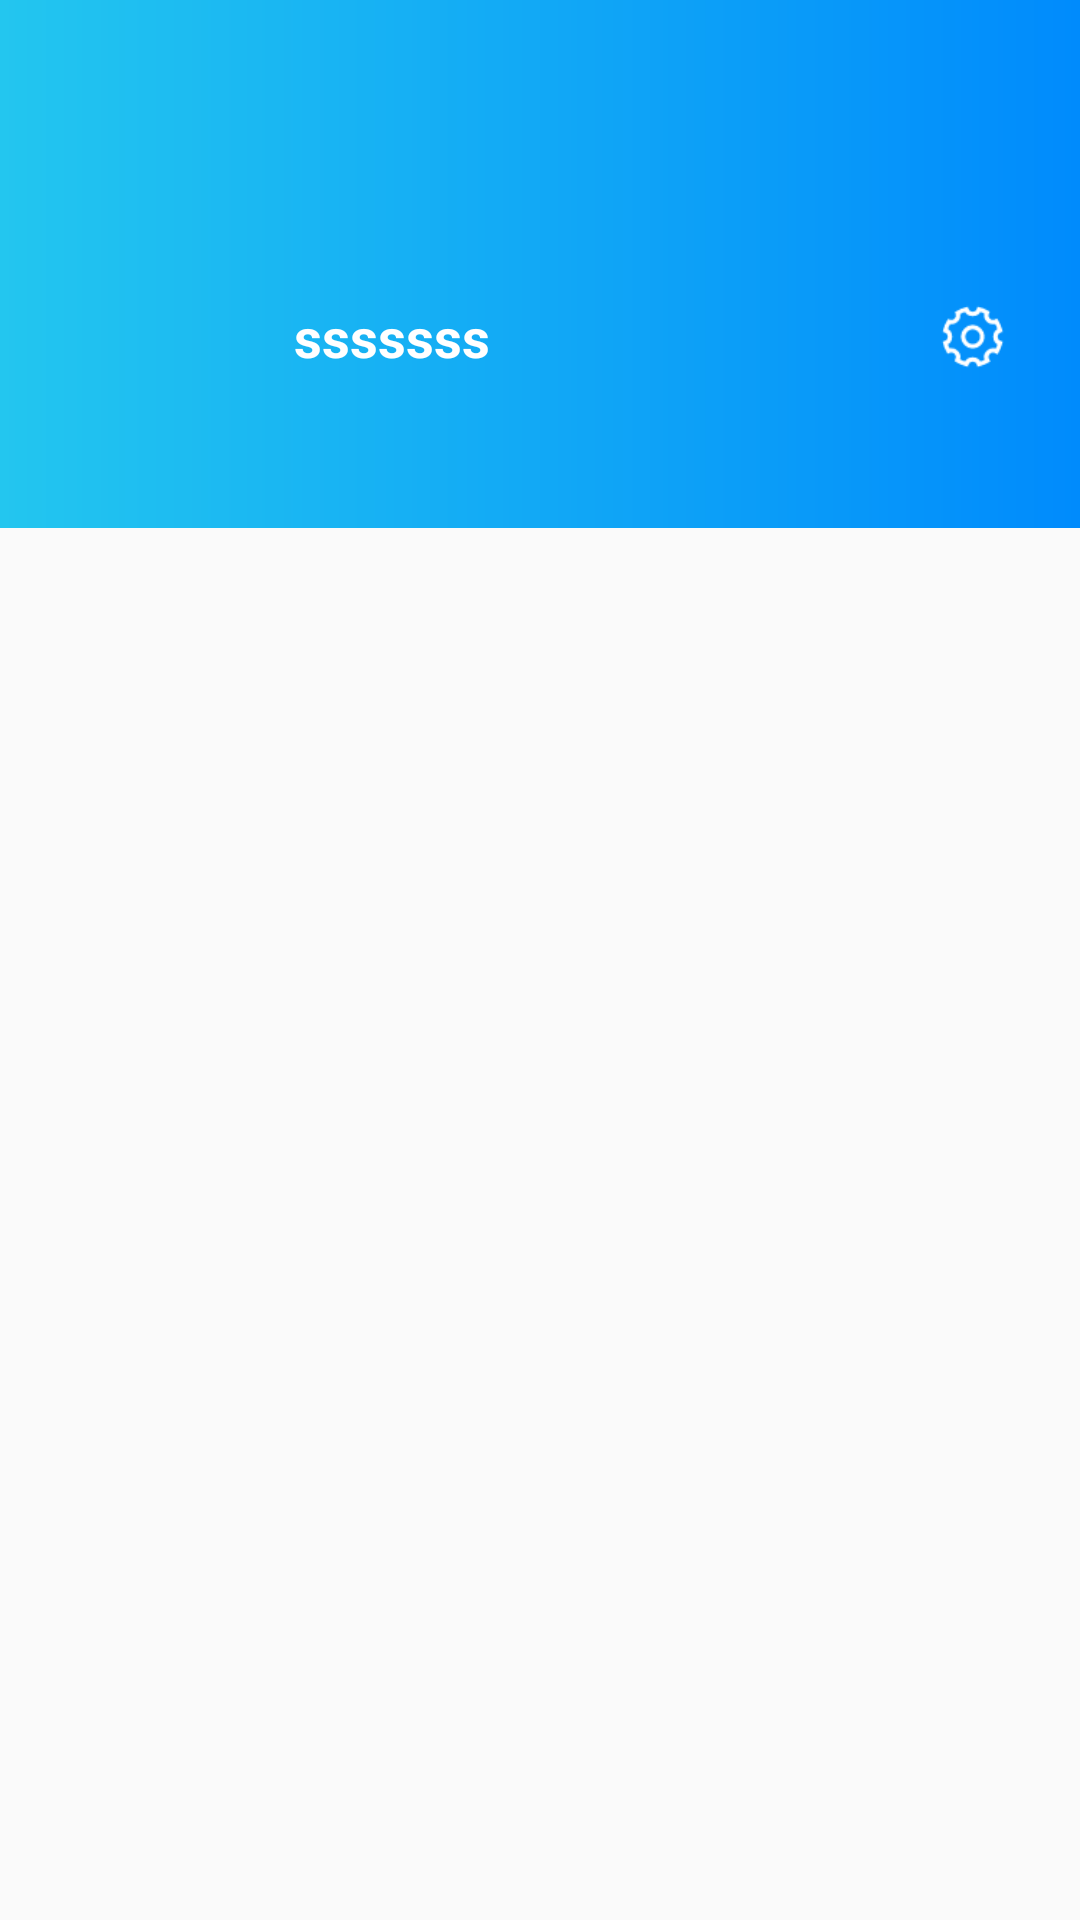

Screen size 1080*1920. Icon name, then its box in pixels as (x1, y1, x2, y2):
settings: (942, 306, 1003, 367)
